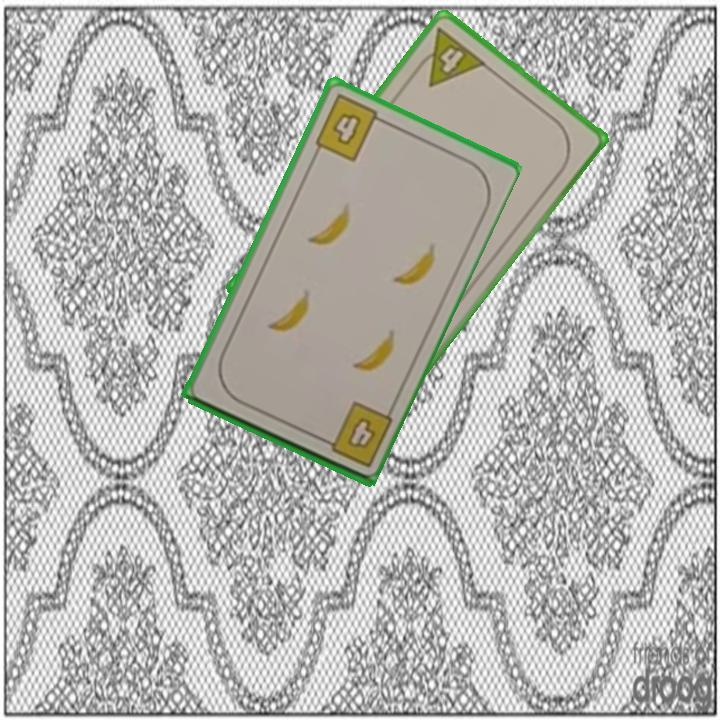4b: (315, 397, 395, 471), (311, 90, 389, 165)
4p: (409, 23, 489, 90)
